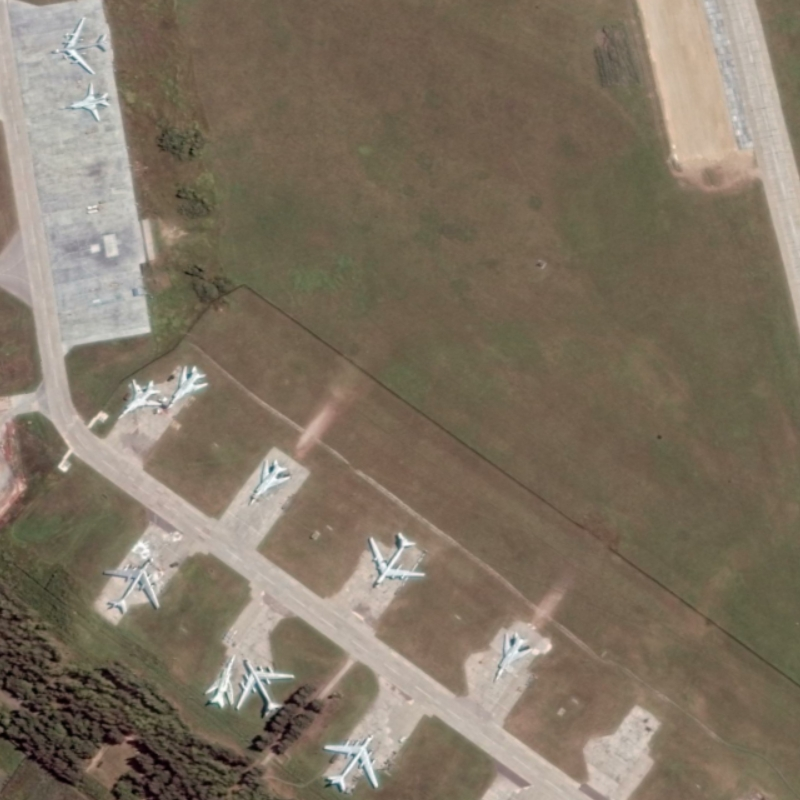A12: (246, 456, 293, 511), (163, 362, 211, 412), (54, 82, 111, 124), (115, 375, 164, 422), (491, 630, 532, 684), (201, 651, 237, 710)
A17: (319, 730, 381, 794), (234, 655, 296, 718), (100, 554, 162, 616), (47, 15, 108, 77), (367, 530, 427, 589)
